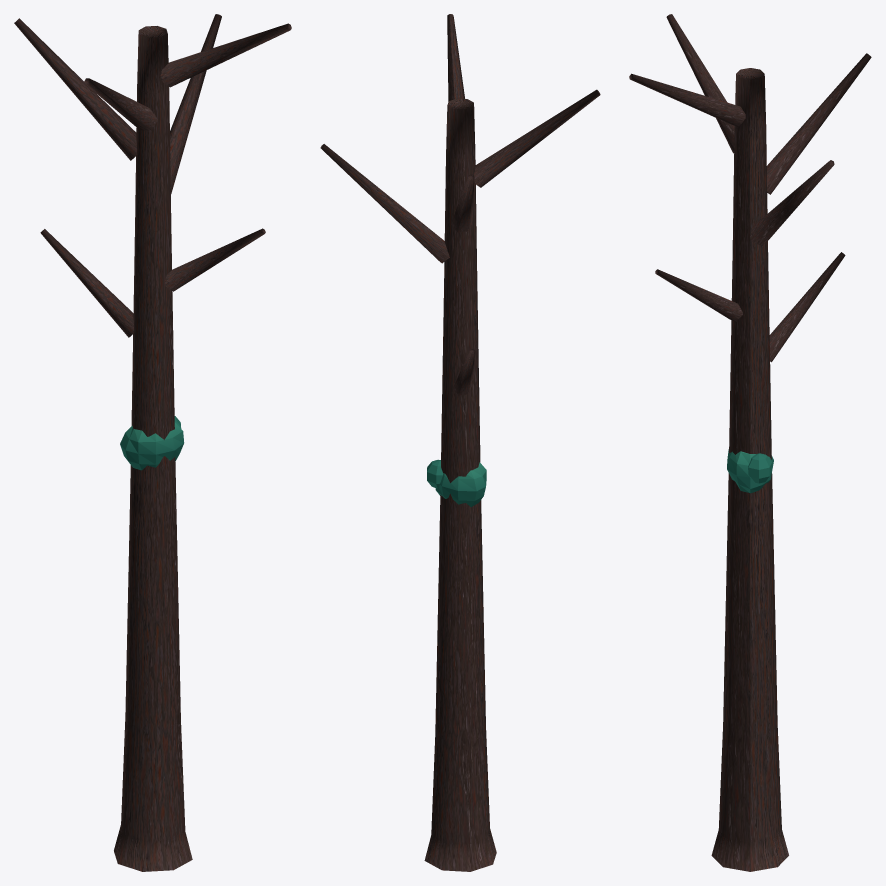
Rendered from lumenwood-v2.glb.
The picture shows the model from 3 angles, left to right: view 1: azimuth 30°, elevation 25°; view 2: azimuth 150°, elevation 25°; view 3: azimuth 270°, elevation 25°; orthographic projection. The views are drawn at different scales.
Visible parts, largest first — view 1: LumenTrunk, LumenBlob; view 2: LumenTrunk, LumenBlob; view 3: LumenTrunk, LumenBlob.
Part boxes in pixels (x1=…): LumenTrunk: x1=14, y1=14, x2=291, y2=871; LumenBlob: x1=120, y1=416, x2=184, y2=470; LumenTrunk: x1=320, y1=14, x2=600, y2=871; LumenBlob: x1=427, y1=459, x2=486, y2=506; LumenTrunk: x1=629, y1=14, x2=871, y2=871; LumenBlob: x1=727, y1=449, x2=773, y2=493.
Size of the model in its own units: 8.42 by 31.3 by 8.43.
Materials: 2 (1 with a texture image).
